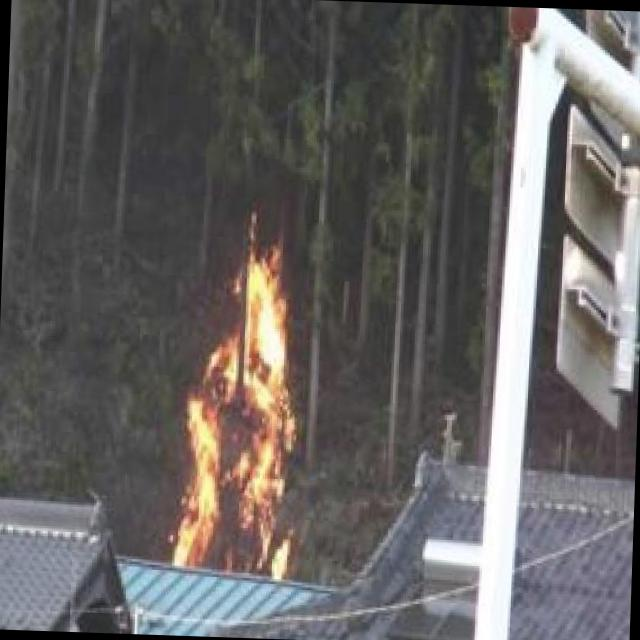Fire: (173, 245, 319, 580)
